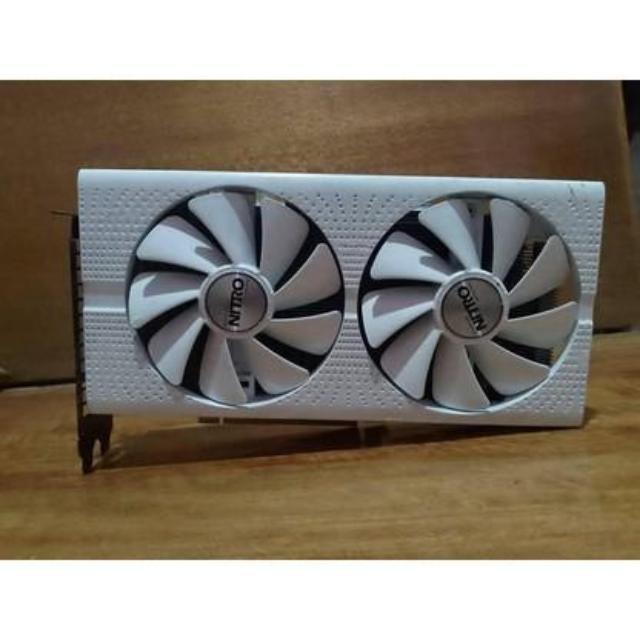GPU: (66, 162, 620, 450)
